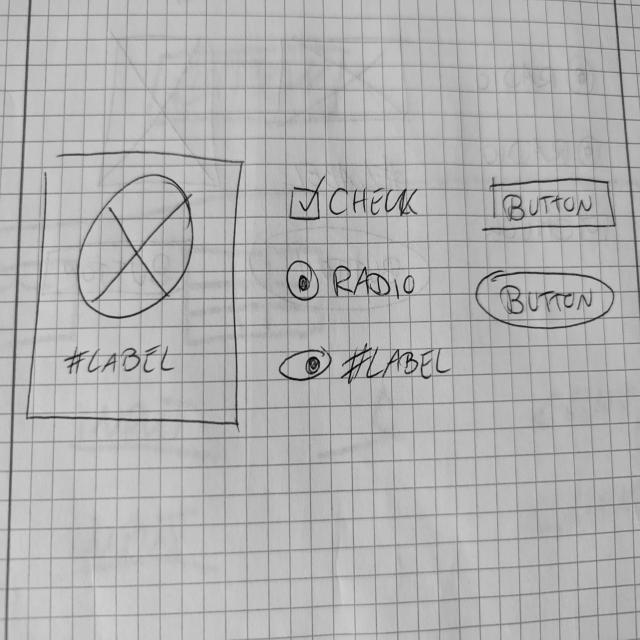button: (474, 268, 617, 333), (488, 174, 618, 233)
checkbox: (288, 182, 421, 222)
container: (25, 148, 244, 428)
image: (75, 170, 196, 321)
label: (339, 340, 455, 386), (64, 342, 177, 378)
radio: (285, 258, 417, 303)
toggle: (277, 347, 333, 383)
